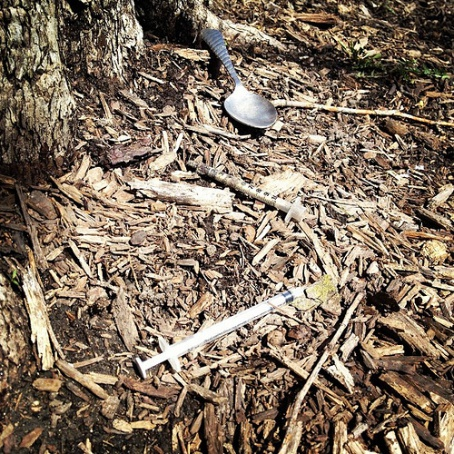spoon: (193, 23, 286, 136)
syringe: (126, 274, 334, 387), (179, 151, 318, 231)
vegetation: (2, 1, 454, 454)
